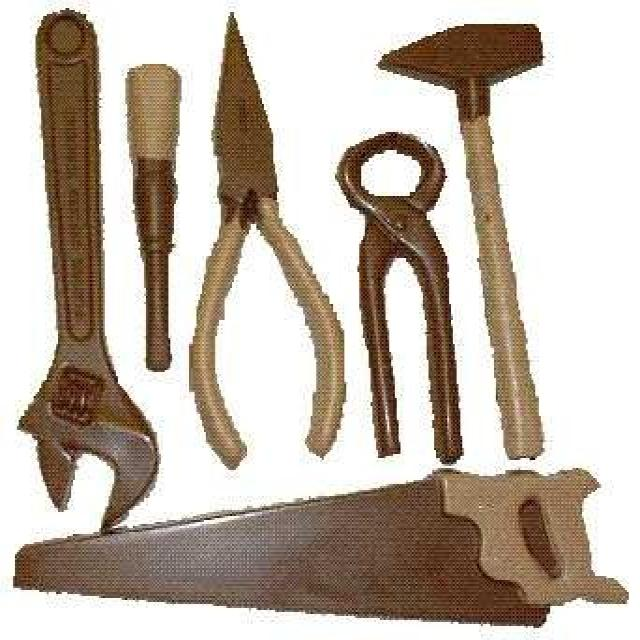hammer: (378, 12, 600, 466)
